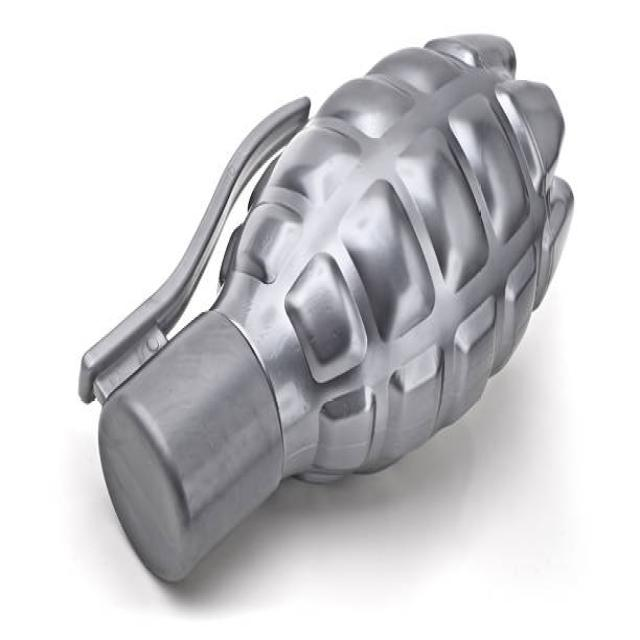grenade: (73, 27, 580, 598)
